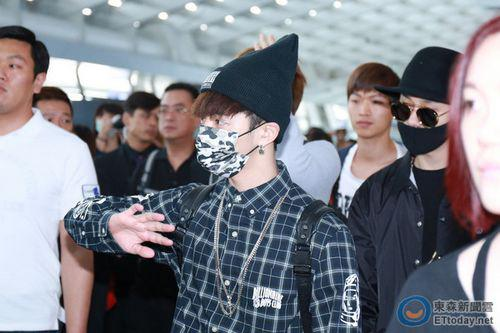NONE: (456, 87, 500, 206), (351, 92, 391, 137), (1, 53, 31, 106), (157, 105, 188, 137), (134, 114, 162, 143)
OK: (192, 105, 258, 171)
WRONG: (394, 100, 450, 157)
